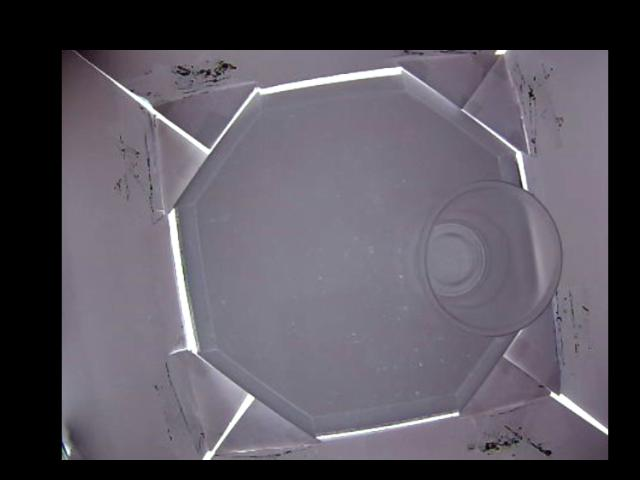Cup: (413, 176, 564, 336)
